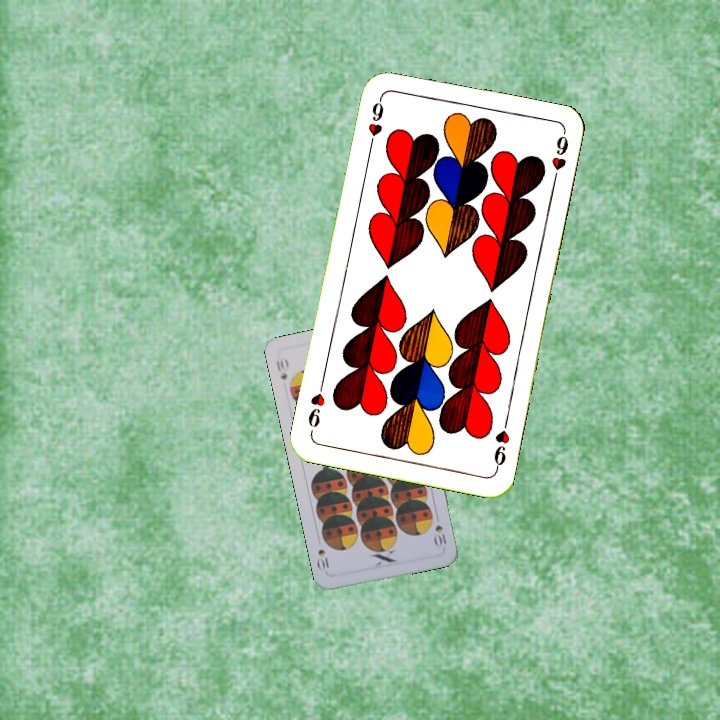H9: (364, 93, 387, 152), (489, 415, 512, 473)
S10: (272, 354, 291, 382), (431, 521, 449, 550)
